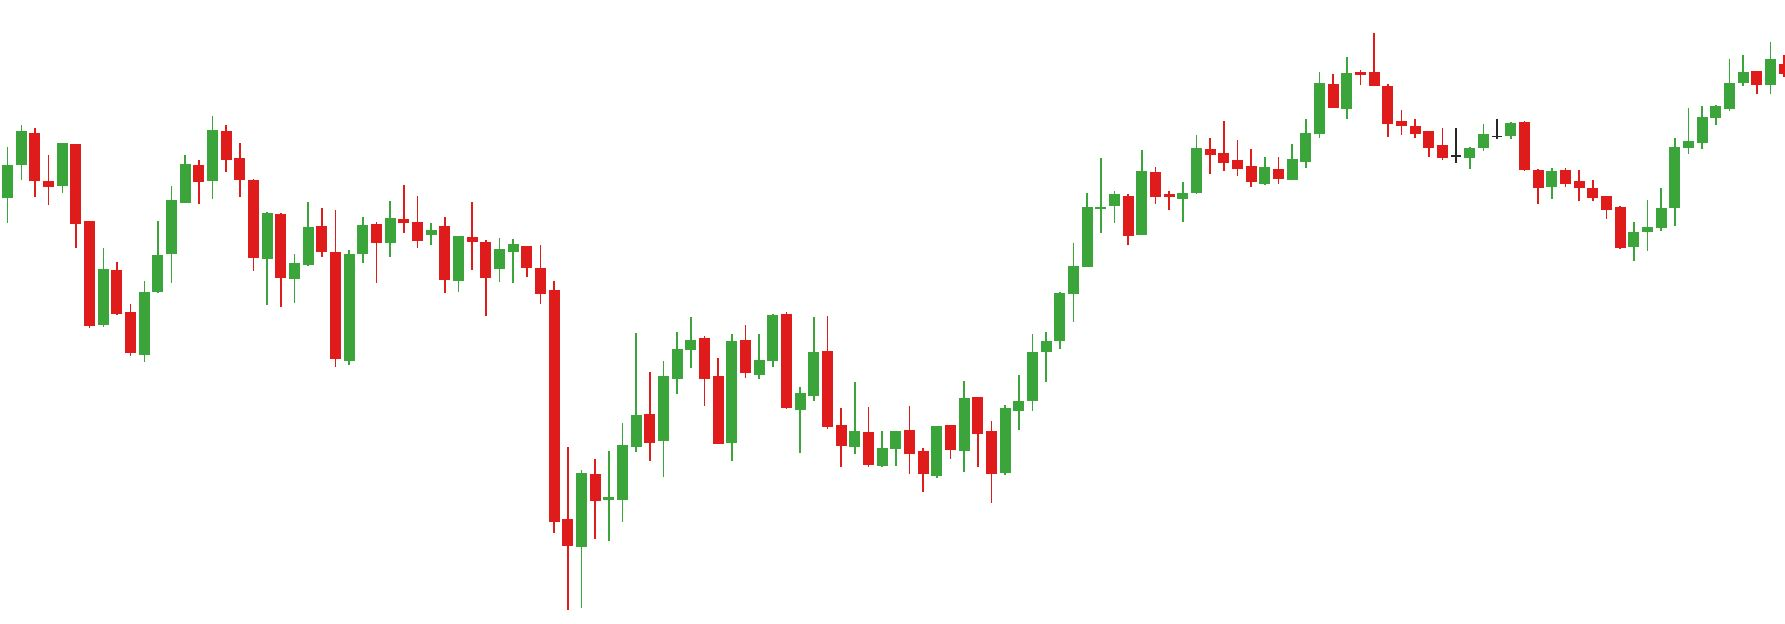buy: (918, 413, 1011, 504)
